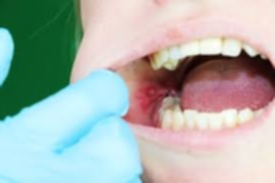Ulcer: (138, 81, 159, 109)
